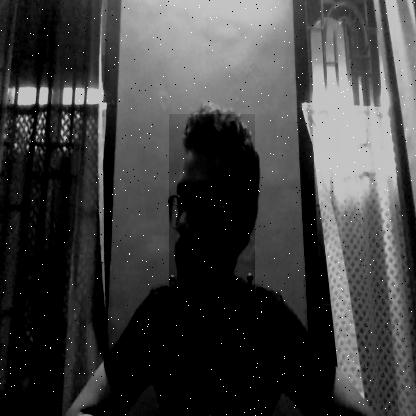Distracted: (169, 115, 255, 296)
